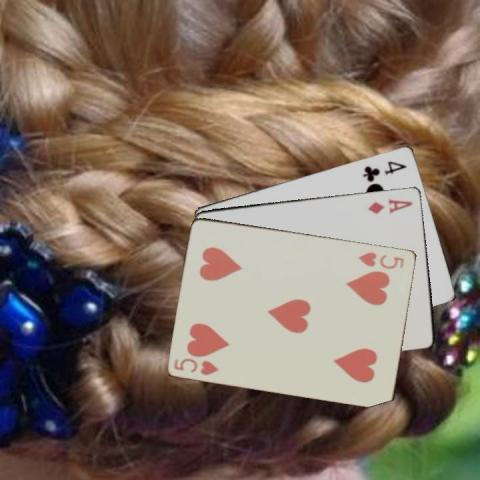4c: (360, 157, 408, 182)
5h: (355, 248, 406, 270), (171, 354, 221, 376)
Ad: (365, 195, 414, 215)
